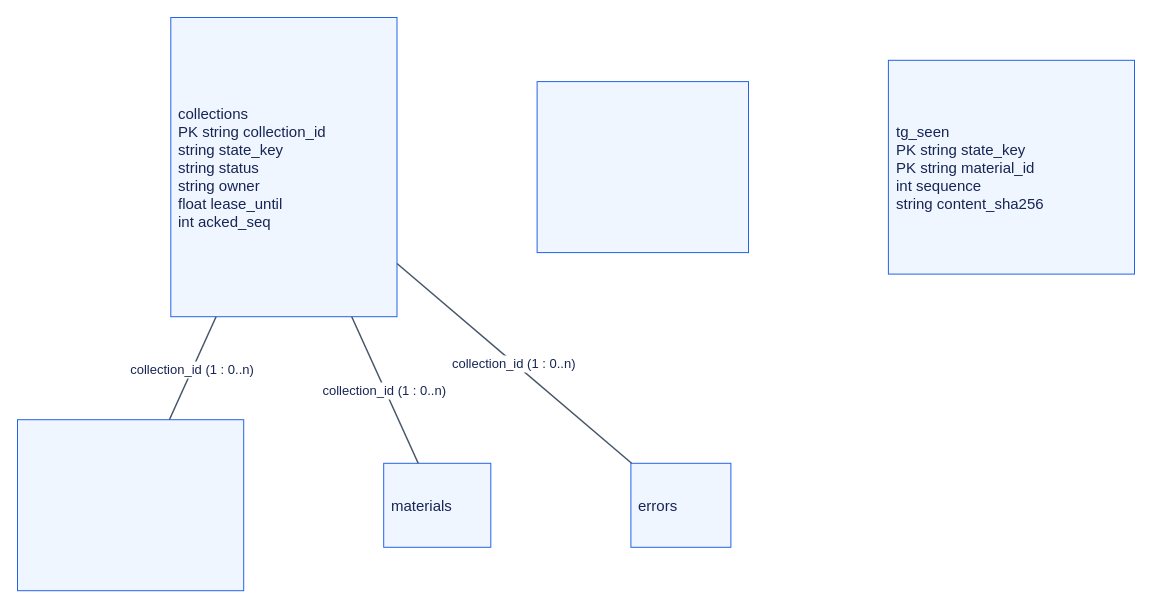
The diagram is 1152 pixels wide and 609 high, and some of its shapes have lost their labels. Each missing label, with the centre of its shape:
"channel_progress PK string collection_id PK string channel_key string progress" belongs at (x=130, y=505).
"tg_cursors PK string state_key PK string channel_id string cursor" belongs at (x=642, y=167).
